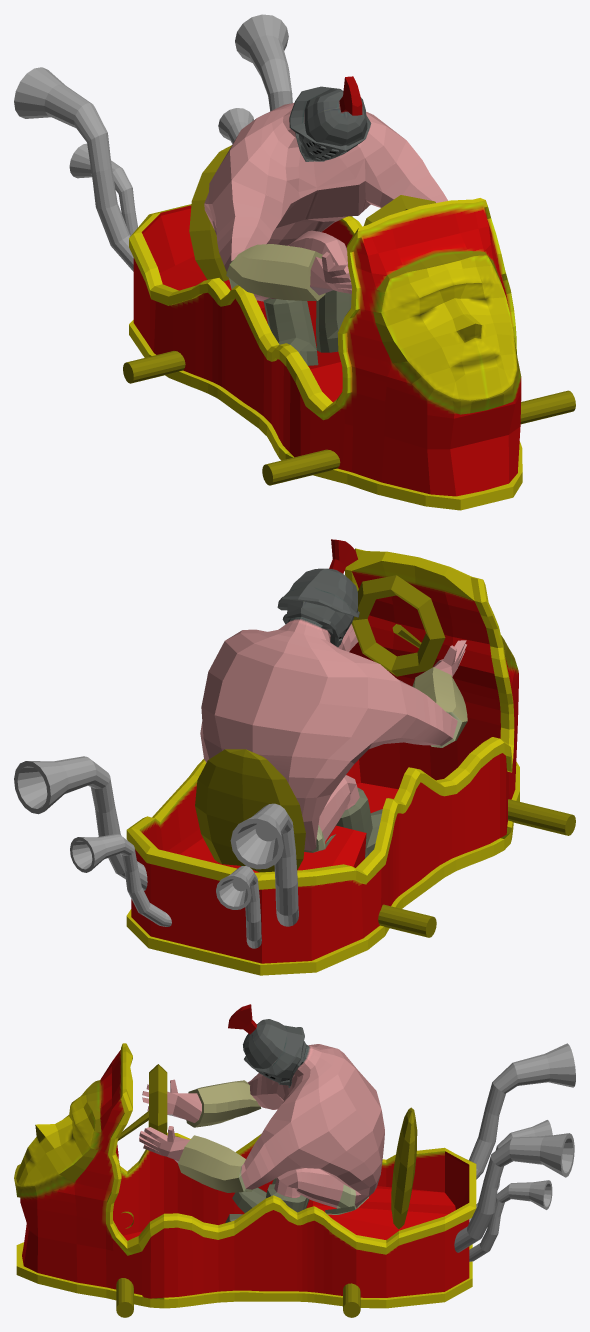
The model's file is GladiGiroIzq_000540.obj.
3 views of the same model, one above another, from view 1: azimuth 30°, elevation 25°; view 2: azimuth 150°, elevation 25°; view 3: azimuth 270°, elevation 25° (orthographic). The views are drawn at different scales.
Visible parts, largest first — view 1: GladiChasis_GladiChasisH, Gadiador_Gladiador_H, GladiTubos_GladiTubosH, GladiVolante_GladiVolanteH; view 2: GladiChasis_GladiChasisH, Gadiador_Gladiador_H, GladiVolante_GladiVolanteH, GladiTubos_GladiTubosH; view 3: GladiChasis_GladiChasisH, Gadiador_Gladiador_H, GladiTubos_GladiTubosH, GladiVolante_GladiVolanteH.
Part boxes in pixels (<box>): GladiChasis_GladiChasisH: <box>129,198,522,510</box>; Gadiador_Gladiador_H: <box>204,76,447,365</box>; GladiTubos_GladiTubosH: <box>14,14,292,271</box>; GladiVolante_GladiVolanteH: <box>123,145,575,485</box>; GladiChasis_GladiChasisH: <box>126,548,519,975</box>; Gadiador_Gladiador_H: <box>200,539,467,858</box>; GladiVolante_GladiVolanteH: <box>195,575,575,937</box>; GladiTubos_GladiTubosH: <box>14,756,298,948</box>; GladiChasis_GladiChasisH: <box>14,1043,476,1308</box>; Gadiador_Gladiador_H: <box>139,1004,384,1223</box>; GladiTubos_GladiTubosH: <box>454,1043,575,1261</box>; GladiVolante_GladiVolanteH: <box>116,1064,417,1317</box>.
Size of the model in its own units: 5.46 by 5.53 by 10.78.
4 materials, 4 textured.
